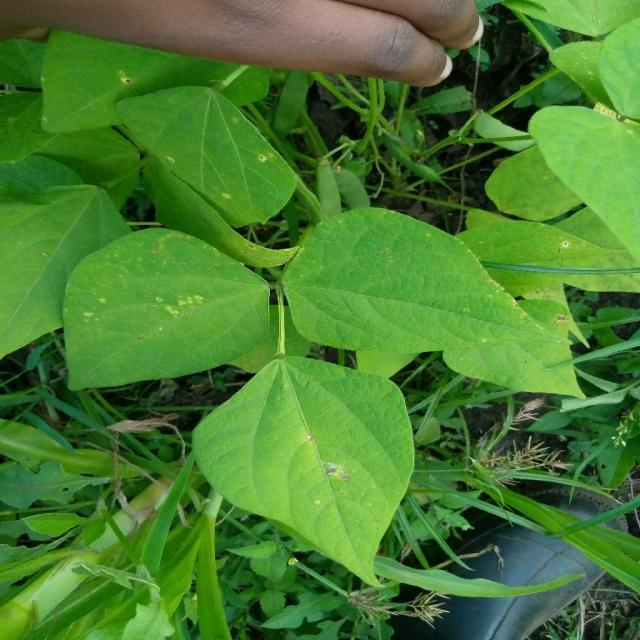hawar: (161, 108, 289, 214), (290, 428, 353, 512), (66, 285, 136, 344), (151, 285, 213, 330)
sehat: (316, 246, 464, 340)
